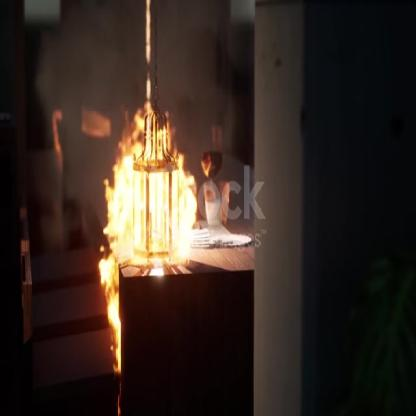fire: (99, 116, 195, 273)
smoke: (38, 0, 244, 227)
